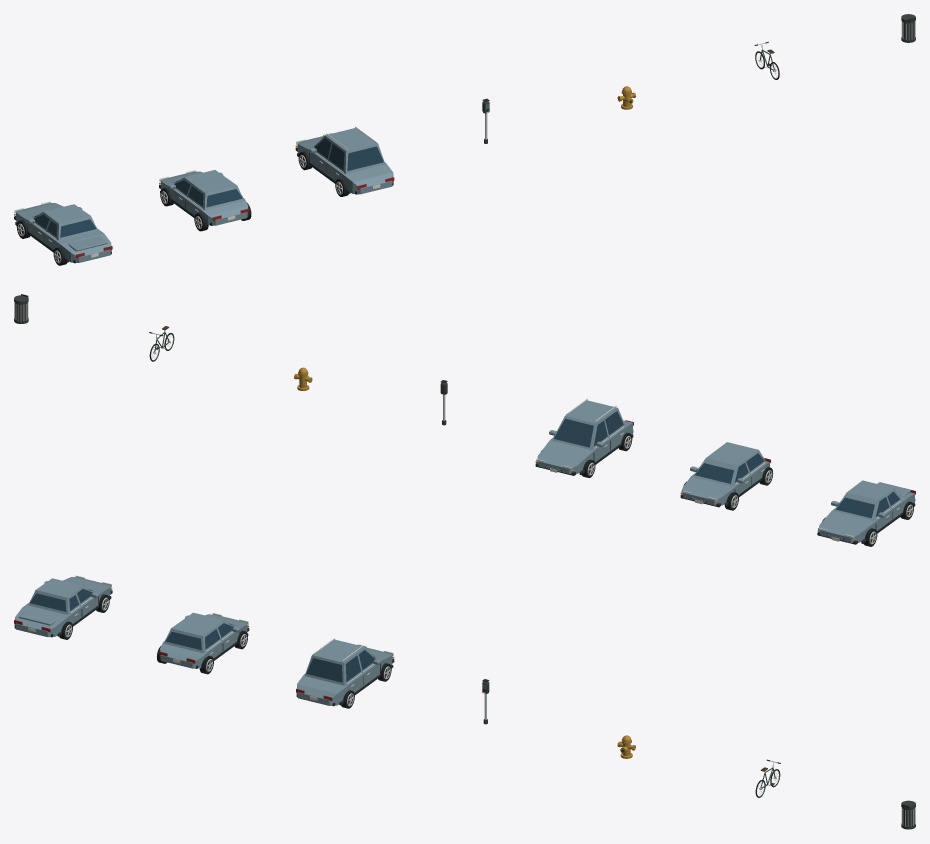
File: streetlife.glb
The picture shows the model from 3 angles, top to bottom: view 1: azimuth 30°, elevation 25°; view 2: azimuth 150°, elevation 25°; view 3: azimuth 330°, elevation 25°; orthographic projection.
Parts seen in each view (by area): view 1: Sedan / car paint, Estate / car paint, Hatchback / car paint, Estate / blue reflected automotive glass, Hatchback / blue reflected automotive glass, Sedan / blue reflected automotive glass; view 2: Estate / car paint, Sedan / car paint, Hatchback / car paint, Estate / blue reflected automotive glass, Hatchback / blue reflected automotive glass, Sedan / blue reflected automotive glass; view 3: Sedan / car paint, Estate / car paint, Hatchback / car paint, Estate / blue reflected automotive glass, Hatchback / blue reflected automotive glass, Sedan / blue reflected automotive glass.
Part boxes in pixels (x1,y1,x2,y2): Sedan / car paint: [16, 203, 111, 262]; Estate / car paint: [297, 128, 393, 194]; Hatchback / car paint: [161, 170, 248, 225]; Estate / blue reflected automotive glass: [314, 138, 383, 170]; Hatchback / blue reflected automotive glass: [173, 180, 242, 207]; Sedan / blue reflected automotive glass: [33, 214, 96, 237]; Estate / car paint: [537, 400, 632, 474]; Sedan / car paint: [819, 480, 914, 542]; Hatchback / car paint: [682, 442, 769, 505]; Estate / blue reflected automotive glass: [553, 411, 623, 447]; Hatchback / blue reflected automotive glass: [695, 453, 764, 483]; Sedan / blue reflected automotive glass: [835, 491, 899, 518]; Sedan / car paint: [15, 577, 110, 637]; Estate / car paint: [297, 639, 392, 705]; Hatchback / car paint: [160, 612, 247, 668]; Estate / blue reflected automotive glass: [306, 650, 375, 682]; Hatchback / blue reflected automotive glass: [165, 623, 233, 650]; Sedan / blue reflected automotive glass: [30, 589, 93, 611].
Size of the model in its own units: 37.4 by 1.81 by 4.65.
